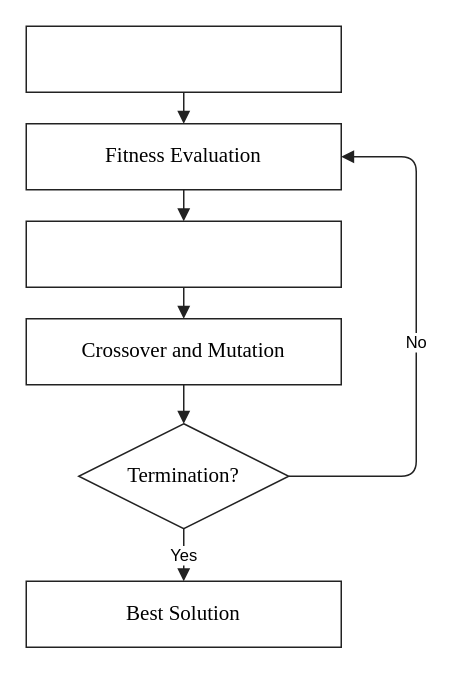
This 455x674 diagram has some shape labels left out. Here are the shapes that lost their labels. From the top down, the centre of each, then its label:
point 183,58: Initialize Population
point 183,253: Selection
